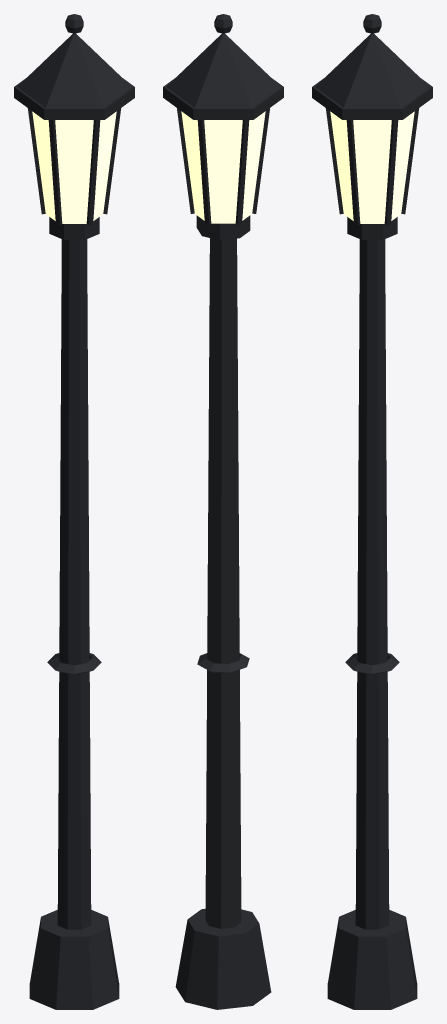
File: prop_lamppost.glb
3 views of the same model, side by side, from view 1: azimuth 90°, elevation 25°; view 2: azimuth 150°, elevation 25°; view 3: azimuth 270°, elevation 25° (orthographic).
Parts seen in each view (by area): view 1: prop_lamppost; view 2: prop_lamppost; view 3: prop_lamppost.
Part boxes in pixels (box(x1,y1,x2,y2)): prop_lamppost: box(14, 14, 134, 1009); prop_lamppost: box(163, 14, 283, 1009); prop_lamppost: box(312, 14, 432, 1009).
Size of the model in its own units: 0.3464 by 3.57 by 0.4.
